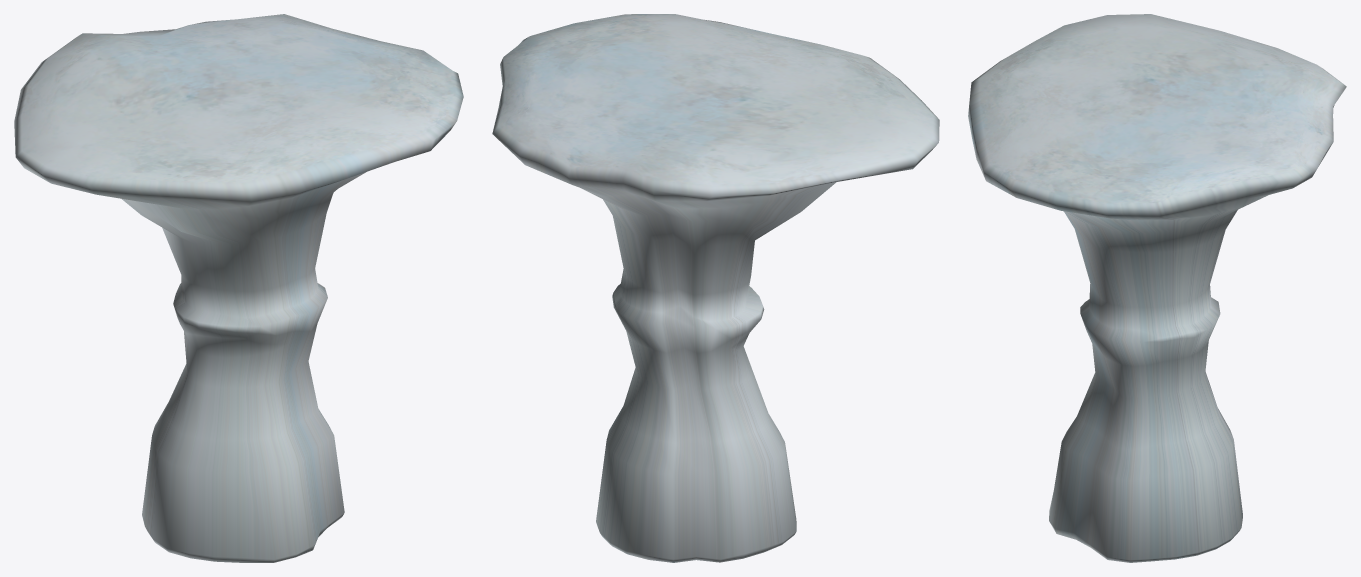
Rendered from P_RockDesert_Layered02.obj.
3 renders of one model, left to right at view 1: azimuth 30°, elevation 25°; view 2: azimuth 150°, elevation 25°; view 3: azimuth 270°, elevation 25°, orthographic. The views are drawn at different scales.
Size of the model in its own units: 18.58 by 18.89 by 15.18.
